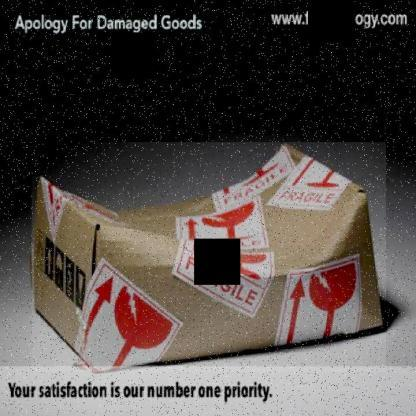-: (32, 142, 386, 372)
